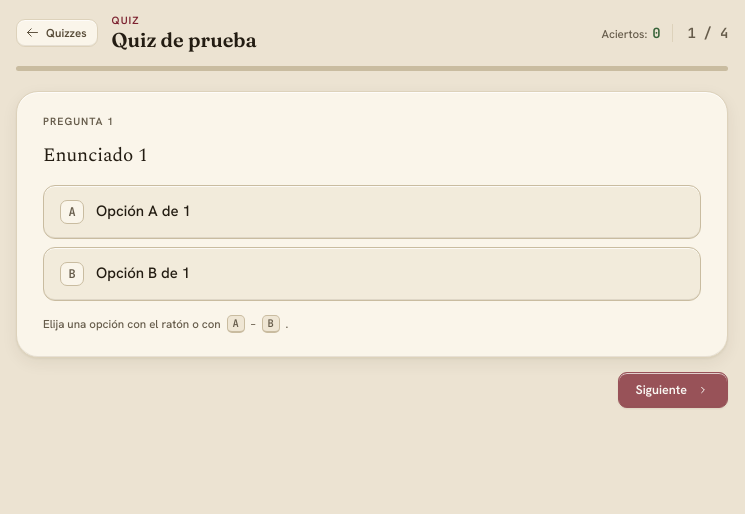
Test: <QuizView/> › cuenta los aciertos en curso y al fallar dice cuál era la correcta
expect the text "Enunciado 1" is shown: met, box [43,141,148,170]
expect the element with test id "quiz-score" shows "0": met, box [652,24,660,42]
Click the button "A Opción A de 1". click: {"x": 143, "y": 211}
box: [43,184,701,238]
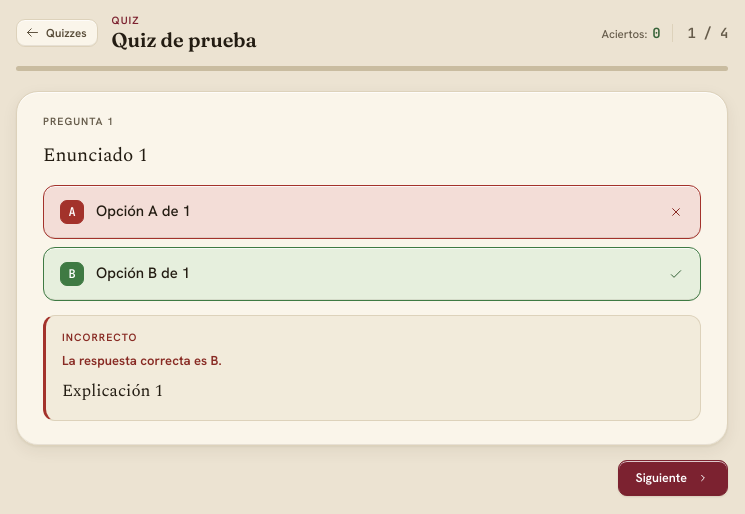
expect the element with test id "quiz-score" shows "0": met, box [652,24,660,42]
expect the text "La respuesta correcta es B." is shown: met, box [62,352,222,368]
expect the text "INCORRECTO" is shown: met, box [62,330,138,344]
Click the button "Siguiente". click: {"x": 673, "y": 478}
box: [618,460,728,496]
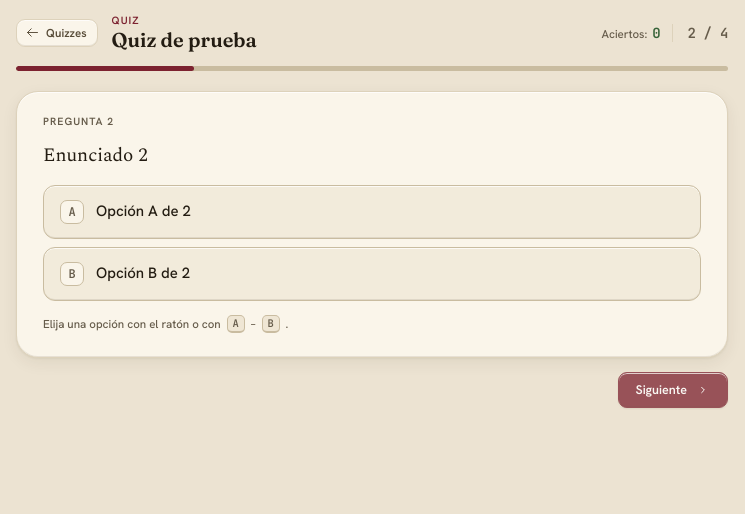
expect the text "Enunciado 2" is shown: met, box [43,141,148,170]
Click the button "B Opción B de 2". click: {"x": 143, "y": 273}
box: [43,246,701,300]
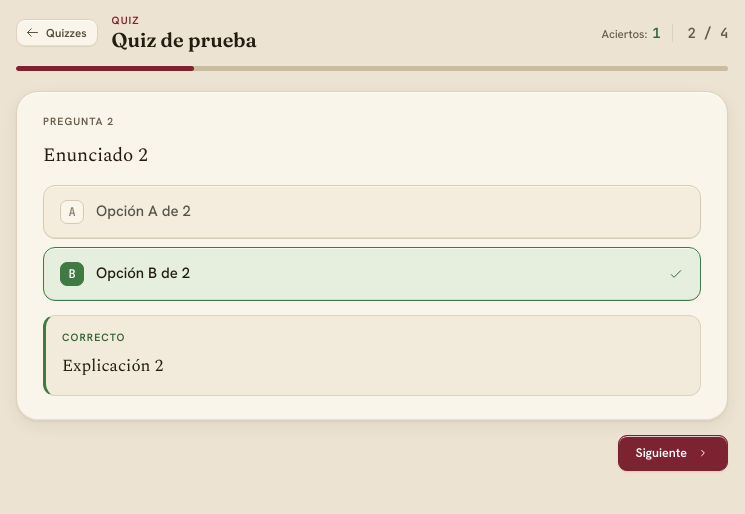
expect the text "La respuesta correcta es" is not shown: met
expect the element with test id "quiz-score" shows "1": met, box [652,24,660,42]
